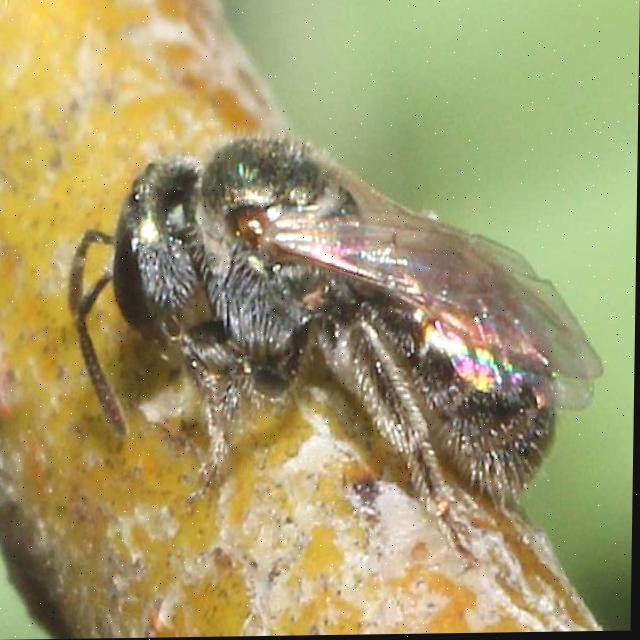Meliponula: (68, 107, 596, 554)
